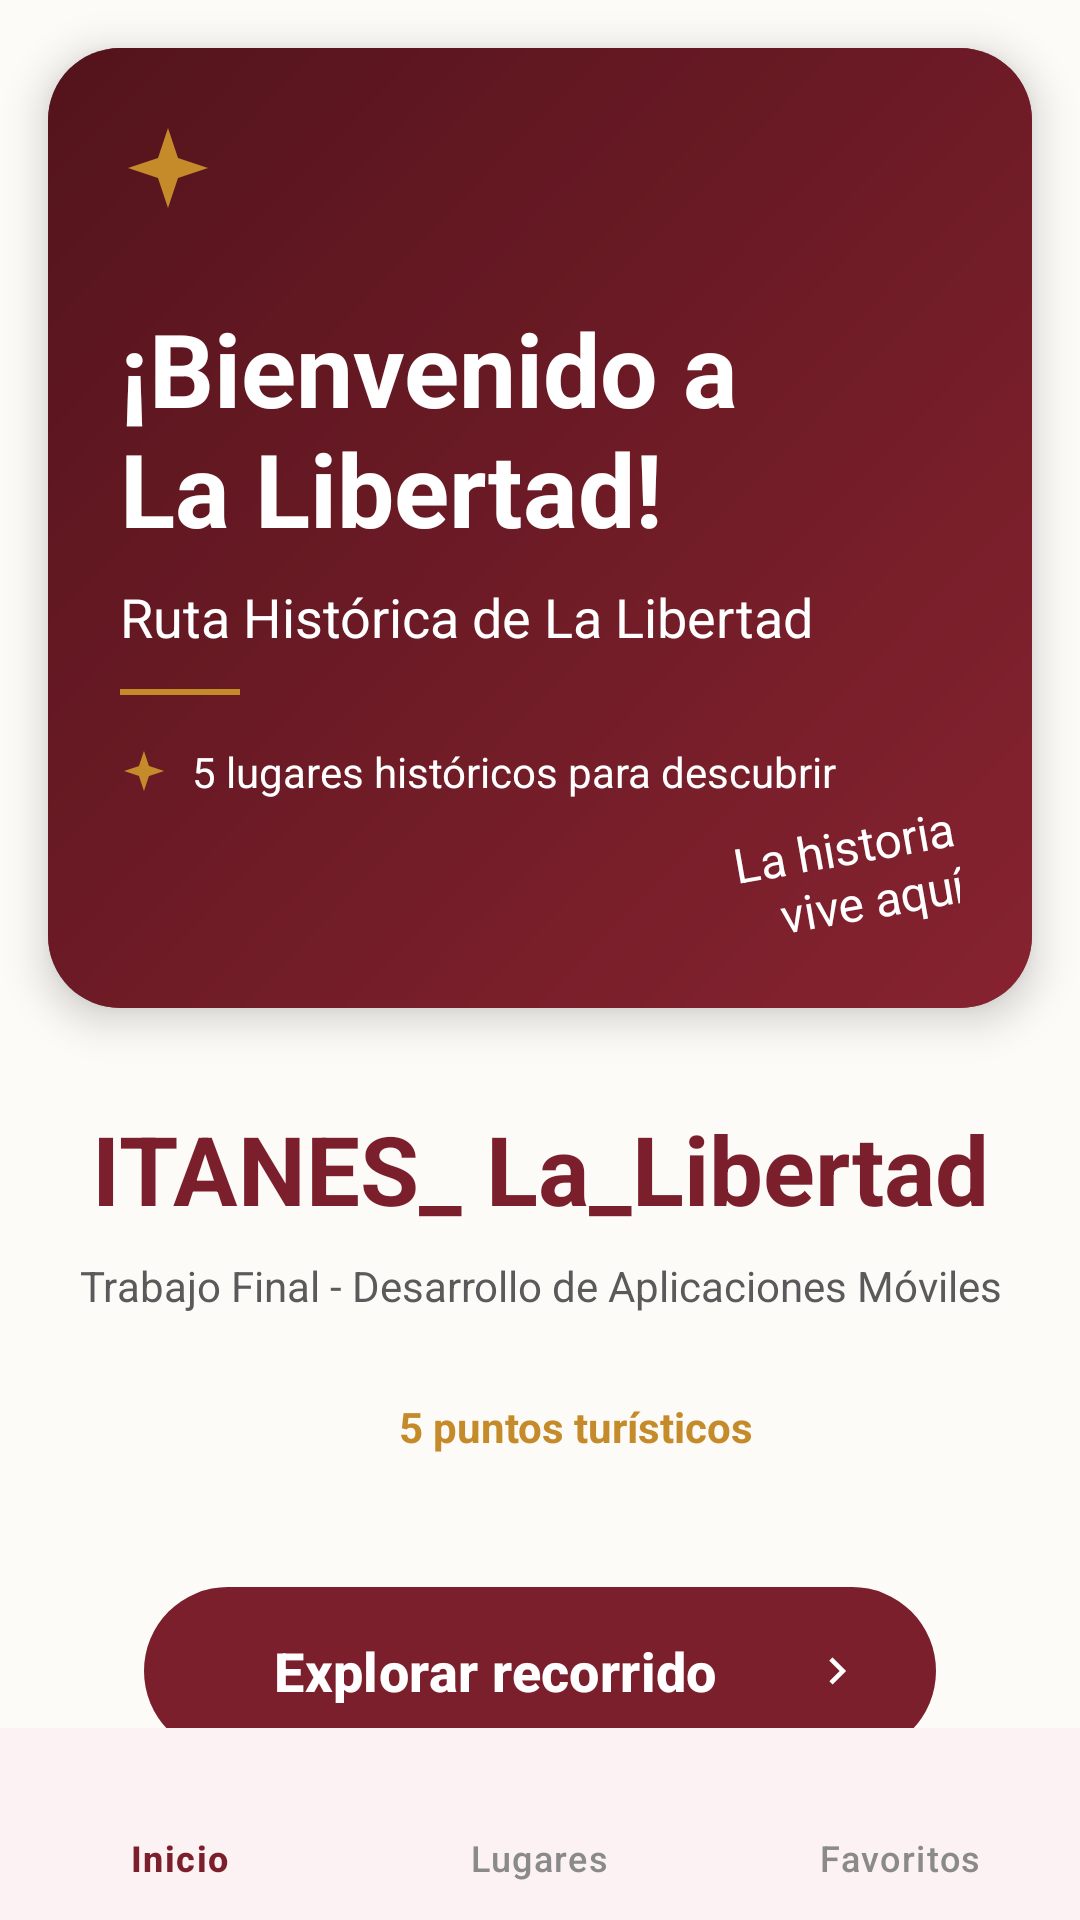

Icon bounding boxes for this 1080px×1920px phone screenshot, format (x1, y1, x2, y2):
star decoration: (129, 129, 207, 207), (125, 752, 163, 790)
